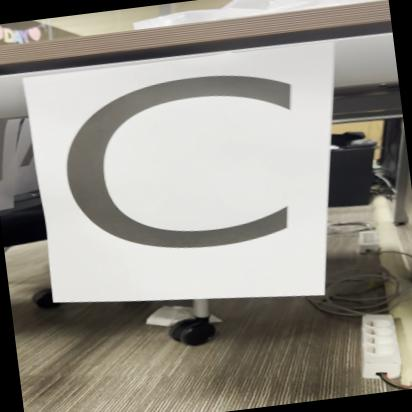seat: (57, 41, 349, 316)
